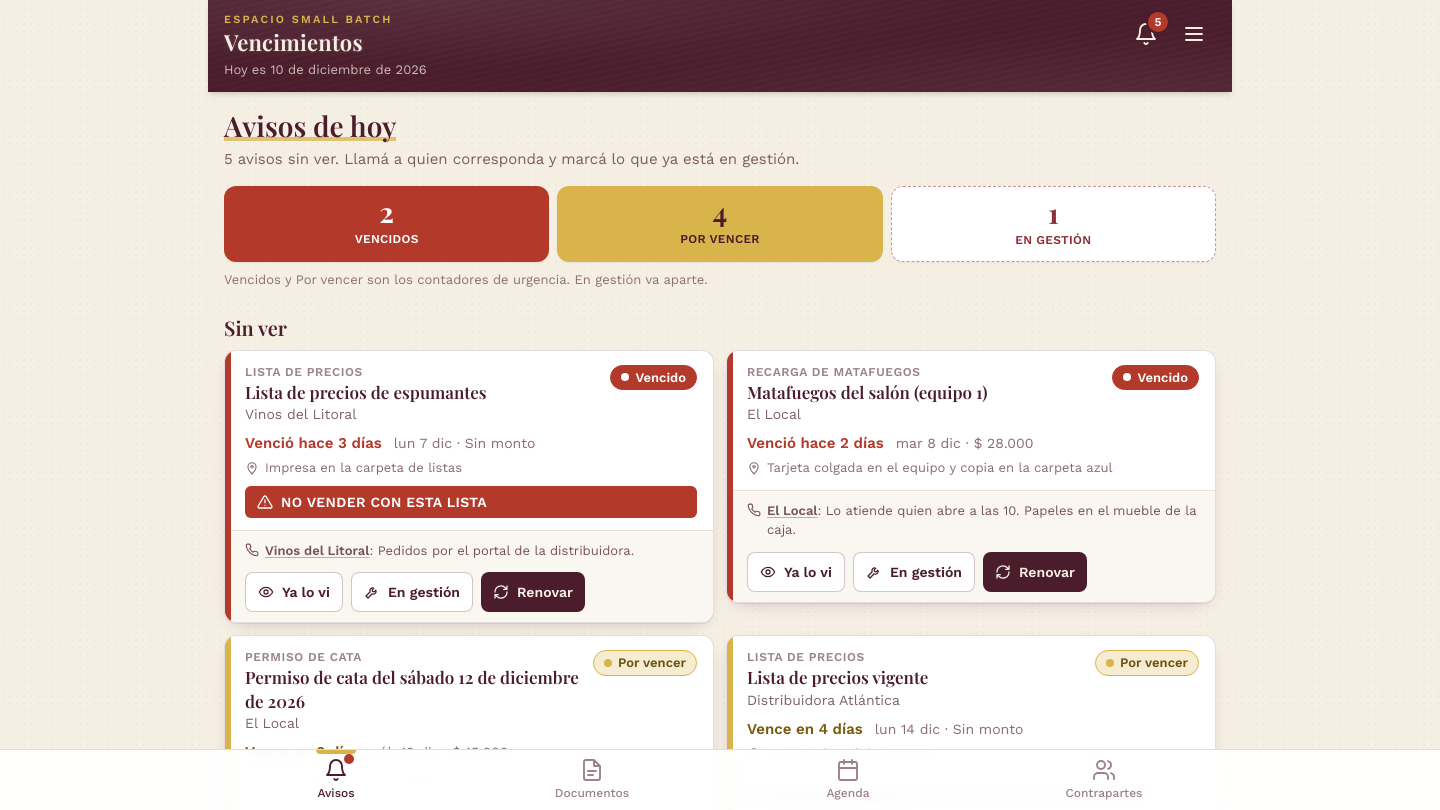
Test: prueba guiada: vigencia con fecha de referencia › «Ya lo vi» baja la marca y en cero dice «Todo en orden por hoy»
Click the button "Ya lo vi" below "No vender con esta lista" at (294, 592), box [245,572,343,612]
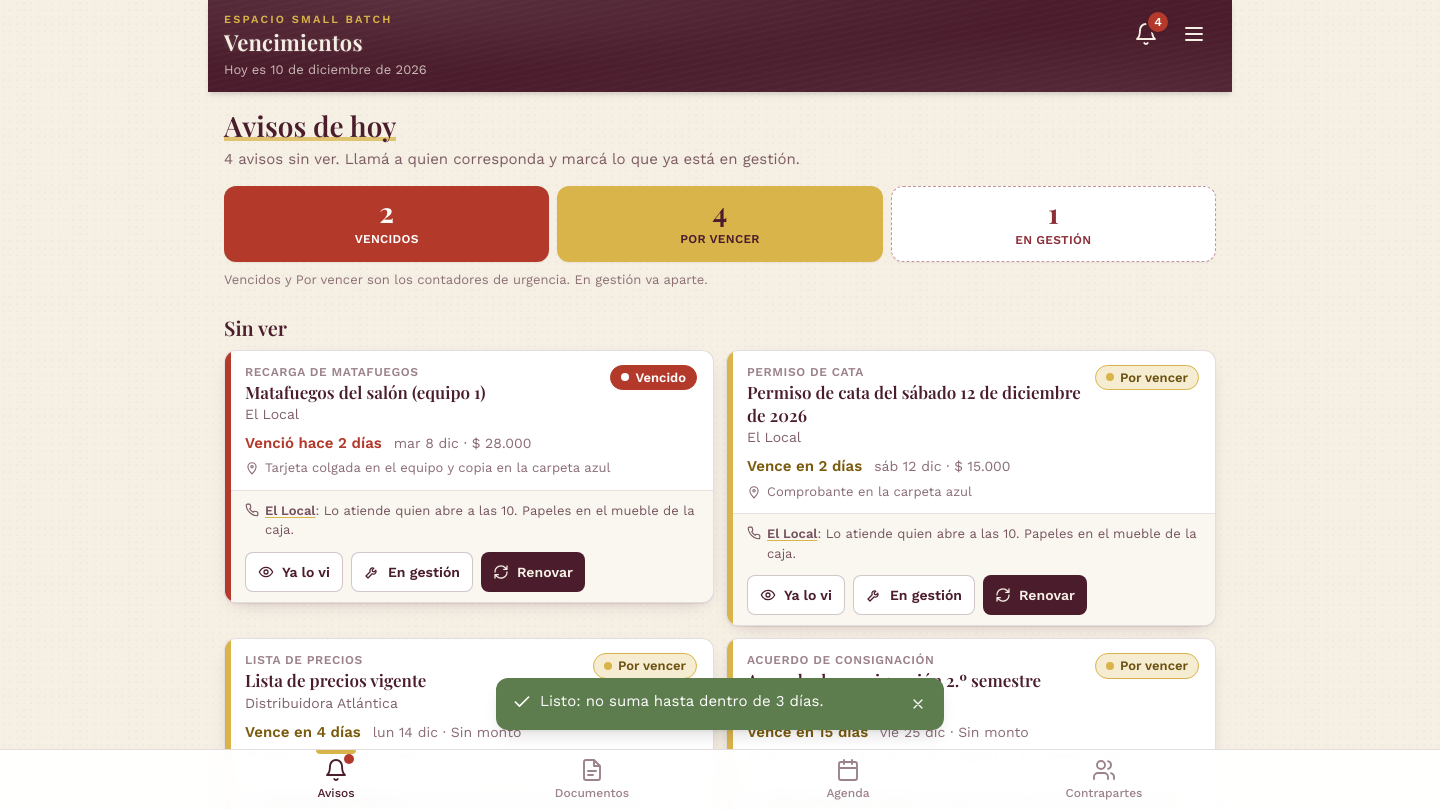
Click the button "Ya lo vi" below "Venció hace 2 días" at (294, 572), box [245,552,343,592]
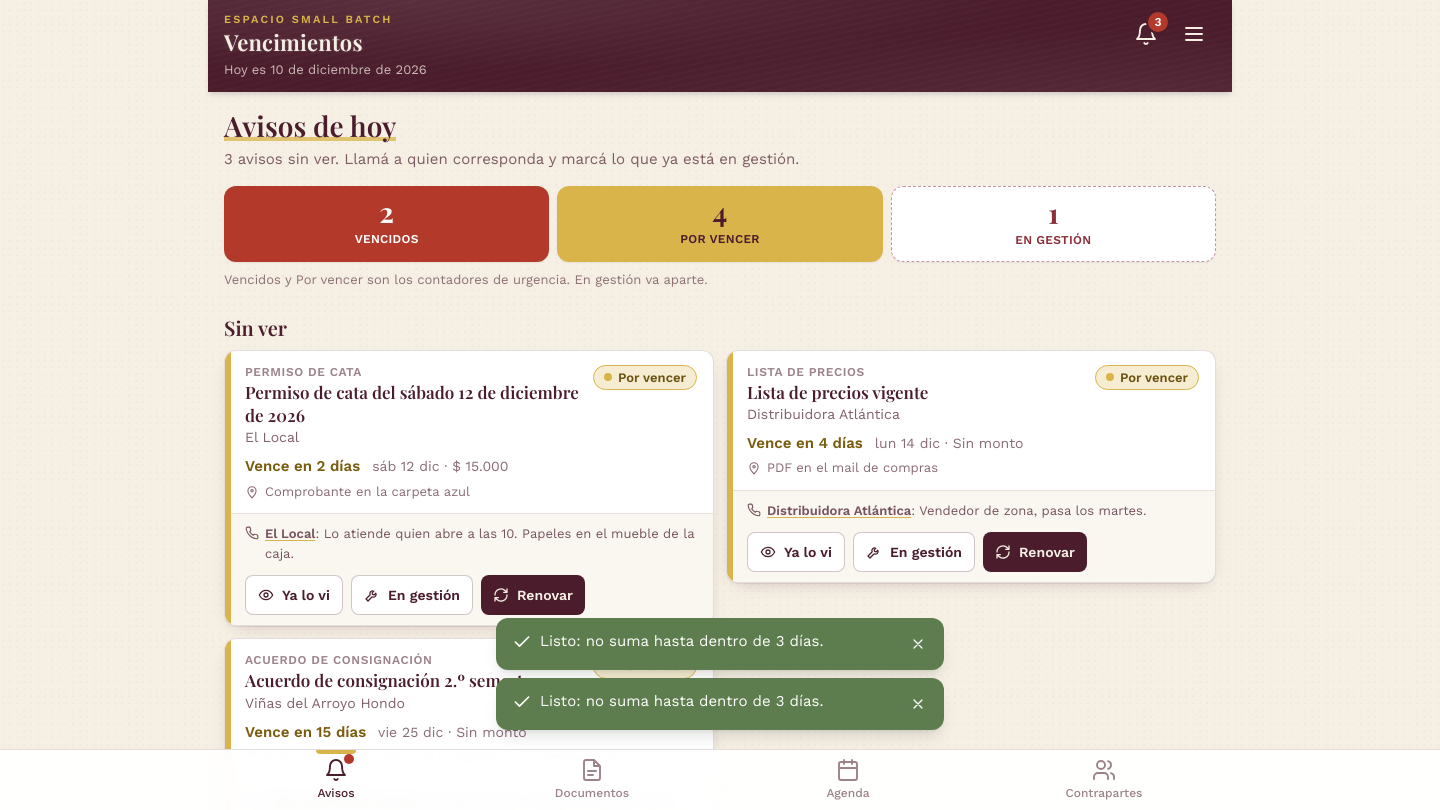
Click the button "Ya lo vi" below "Comprobante en la carpeta azul" at (294, 595), box [245,575,343,615]
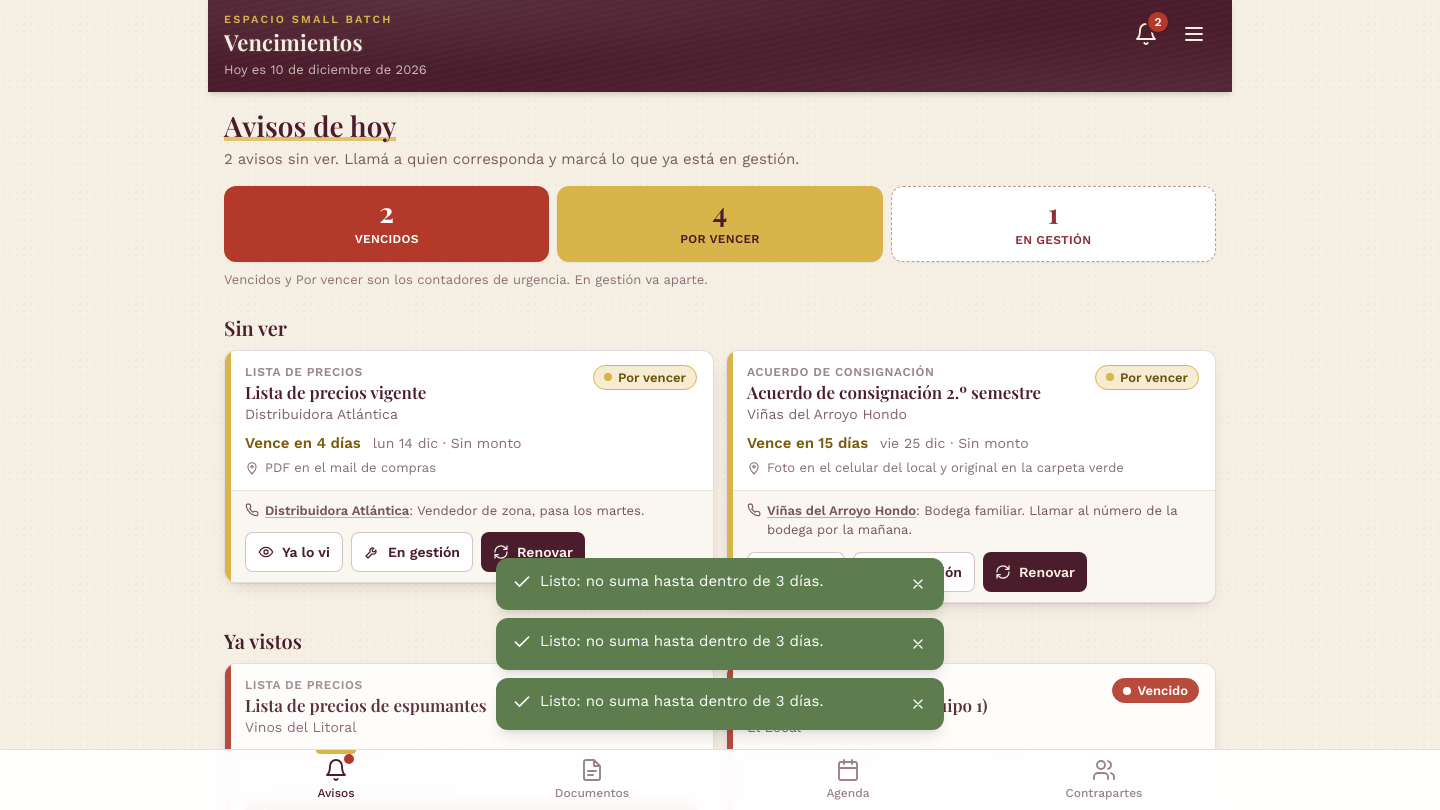
Click the button "Ya lo vi" at (294, 552), box [245,532,343,572]
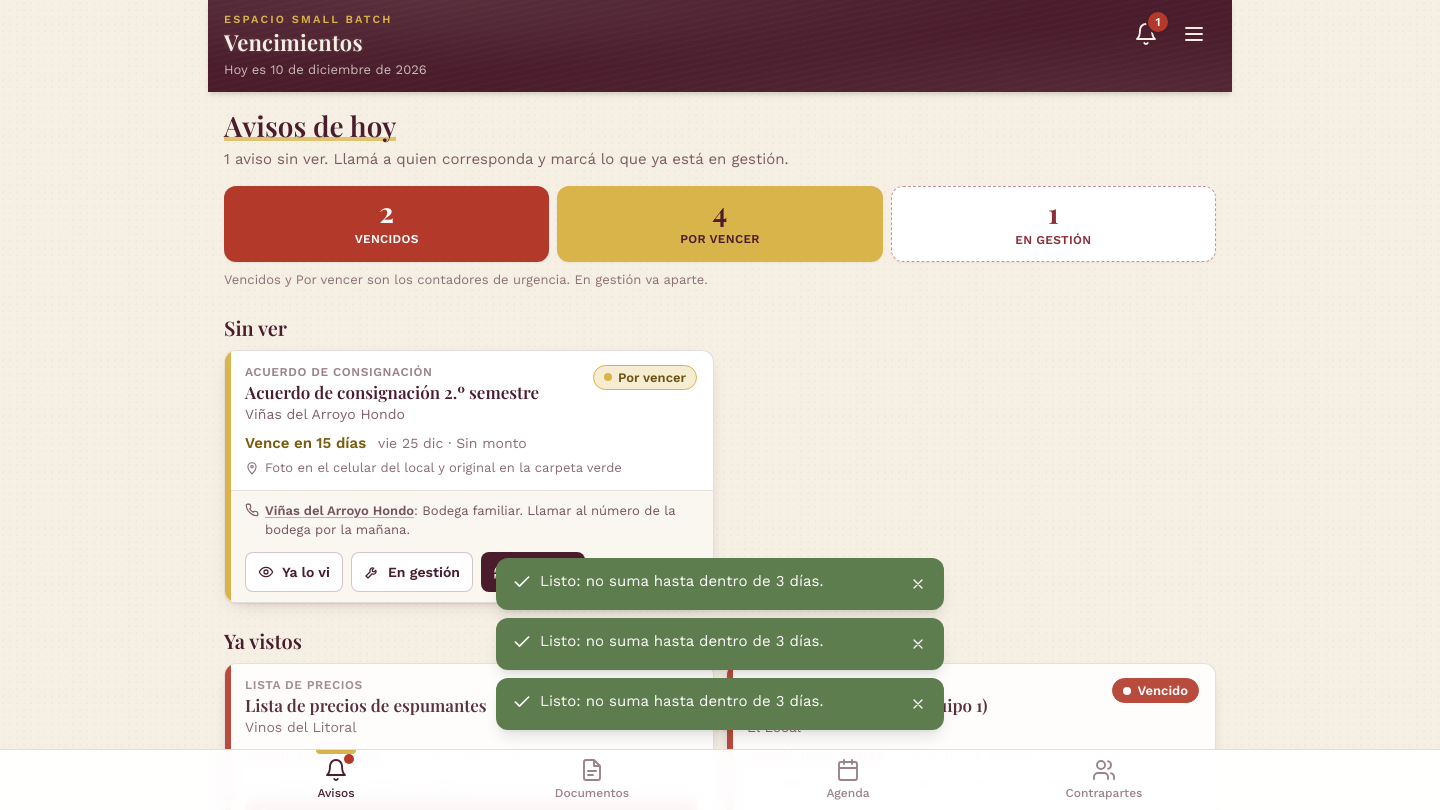
Click the button "Ya lo vi" at (294, 572), box [245,552,343,592]
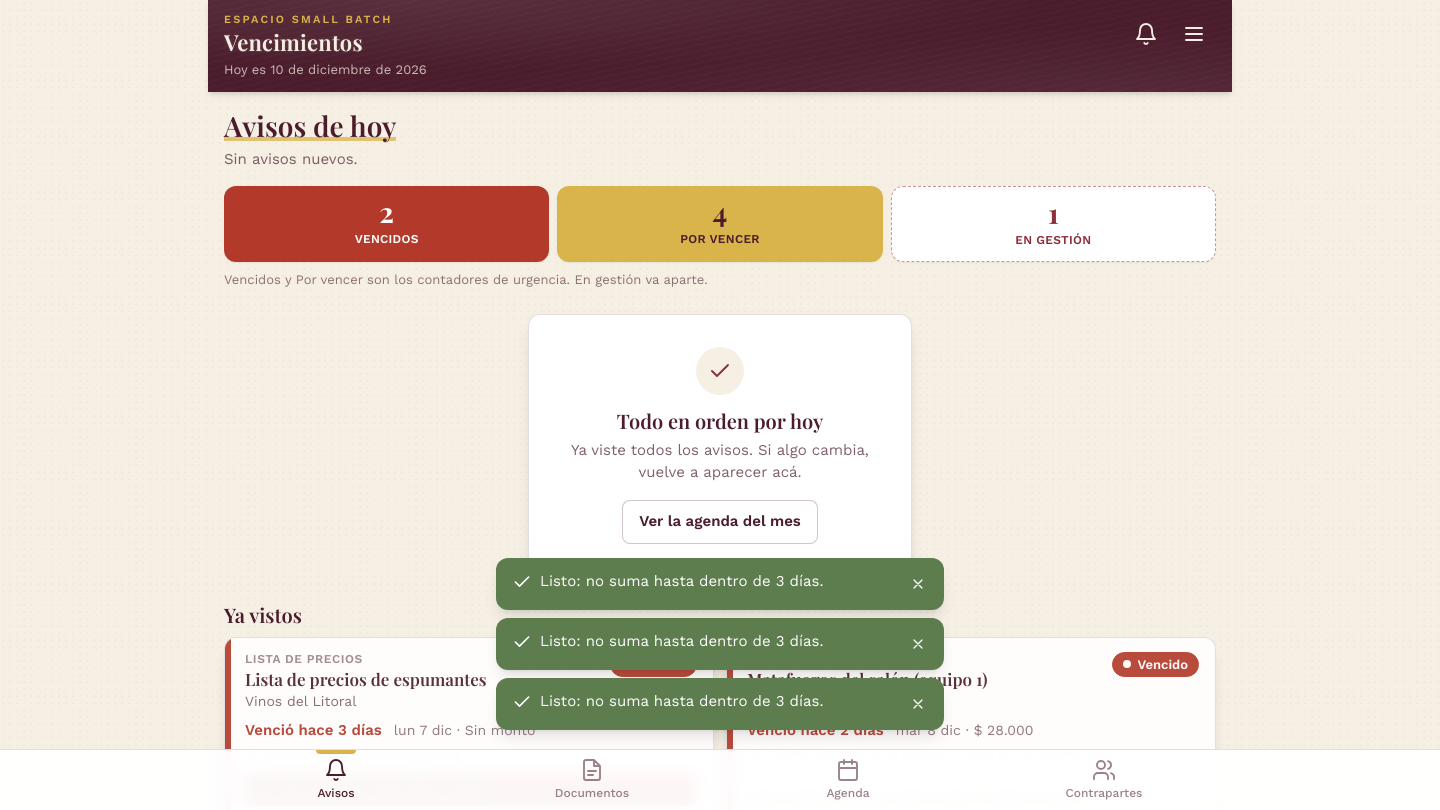
Expected: the text with test id "header-badge" is gone
Expected: the heading "Todo en orden por hoy" is shown, [617,406,823,434]
